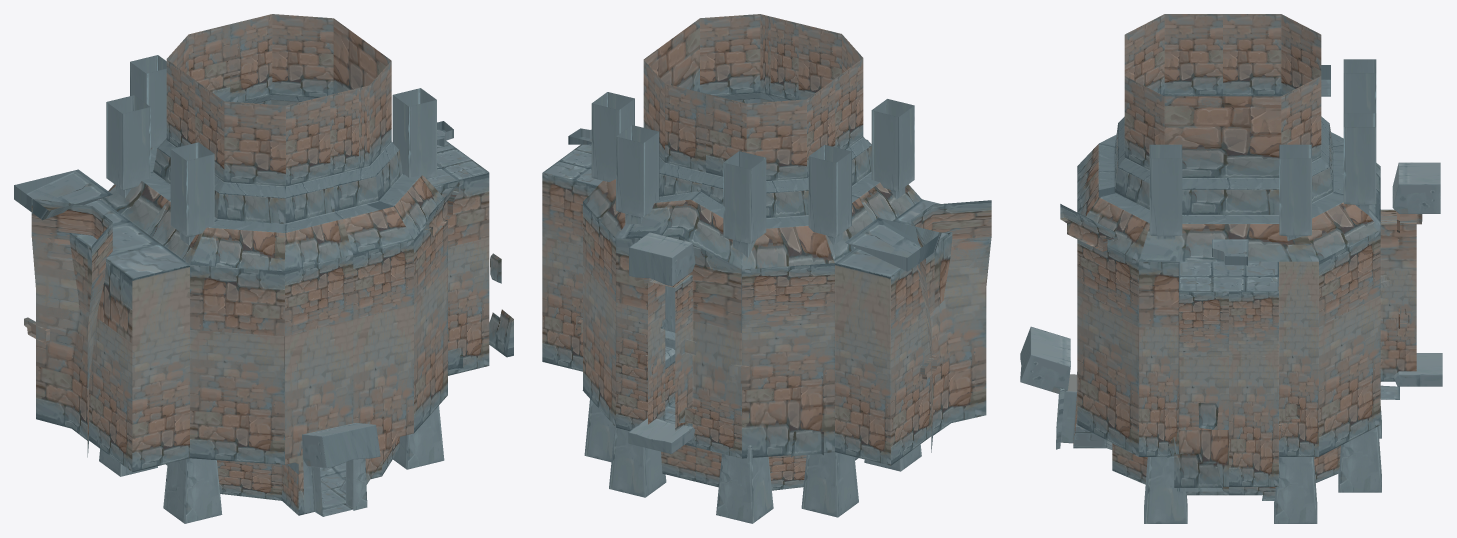
3 renders of one model, left to right at view 1: azimuth 30°, elevation 25°; view 2: azimuth 150°, elevation 25°; view 3: azimuth 270°, elevation 25°, orthographic. The views are drawn at different scales.
Visible parts, largest first — view 1: Room, Pillars, RoomWall, RoomAdditions, PassageBlock2; view 2: Room, Pillars, RoomWall, RoomAdditions, PassageBlock0, PassageBlock1; view 3: Room, Pillars, RoomAdditions, PassageBlock2, PassageBlock0, PassageBlock1.
Part boxes in pixels (x1,y1,x2,y2): Room: (69, 14, 489, 516); Pillars: (99, 55, 444, 523); RoomWall: (31, 198, 112, 457); RoomAdditions: (14, 121, 513, 510); PassageBlock2: (302, 423, 380, 468); Room: (542, 14, 952, 490); Pillars: (584, 92, 921, 523); RoomWall: (911, 200, 991, 452); RoomAdditions: (568, 128, 941, 457); PassageBlock0: (629, 232, 695, 286); PassageBlock1: (628, 418, 694, 453); Room: (1056, 14, 1416, 495); Pillars: (1144, 59, 1381, 523); RoomAdditions: (1056, 65, 1422, 500); PassageBlock2: (1020, 326, 1070, 393); PassageBlock0: (1392, 162, 1440, 213); PassageBlock1: (1394, 353, 1442, 386).
Size of the model in its own units: 30.45 by 27.52 by 25.91.
Materials: 1 (1 with a texture image).
